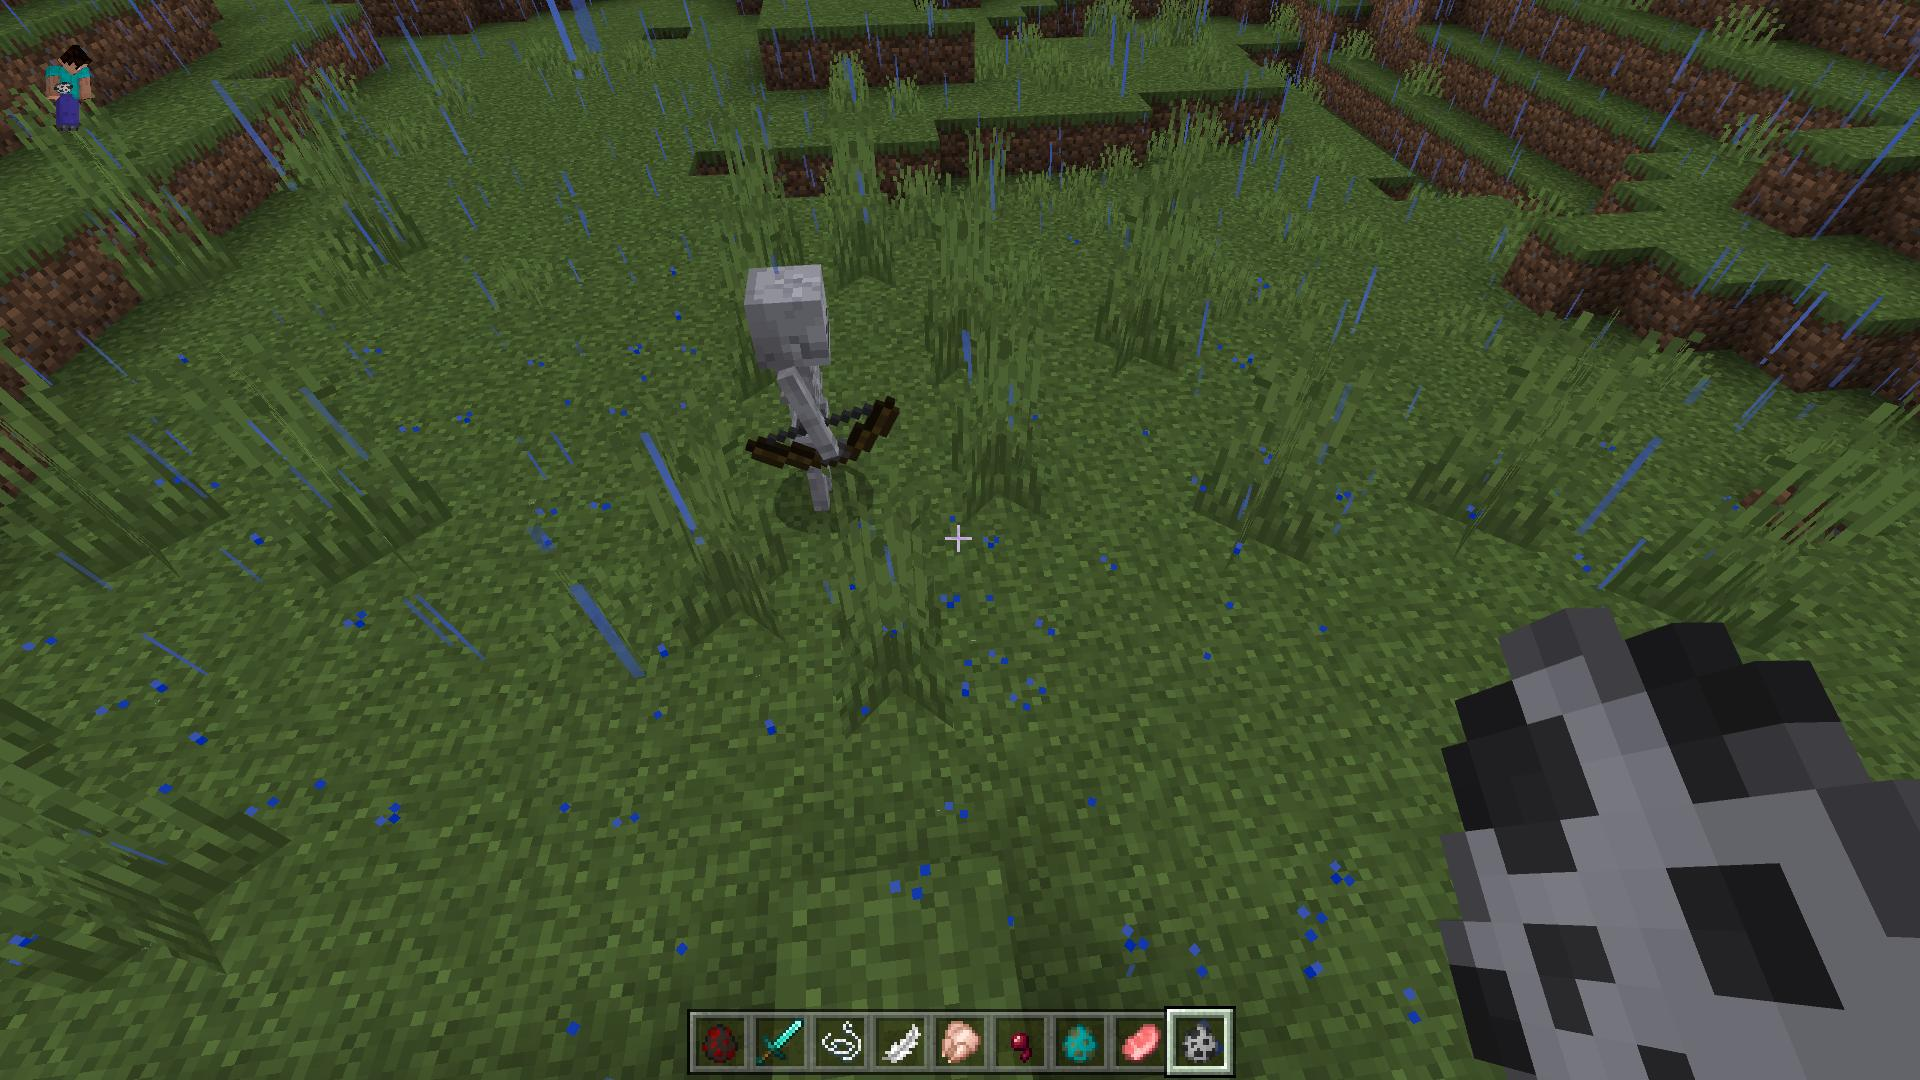skeleton: (738, 264, 901, 516)
